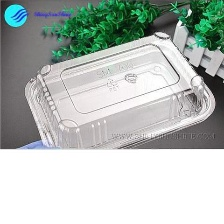plastic_box: (18, 25, 220, 148)
